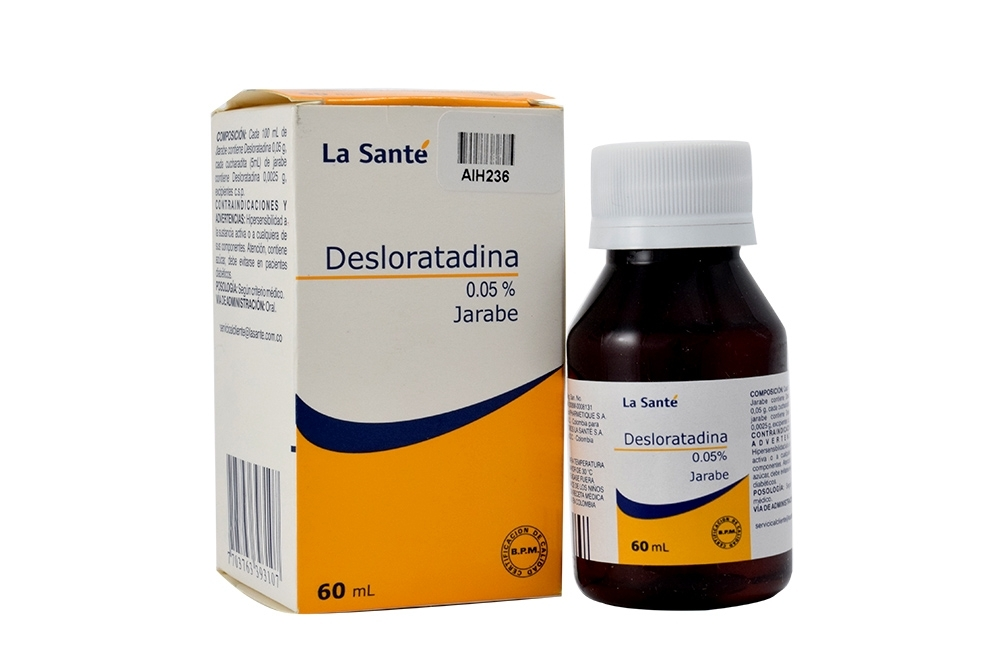LaSante: (294, 104, 554, 609)
